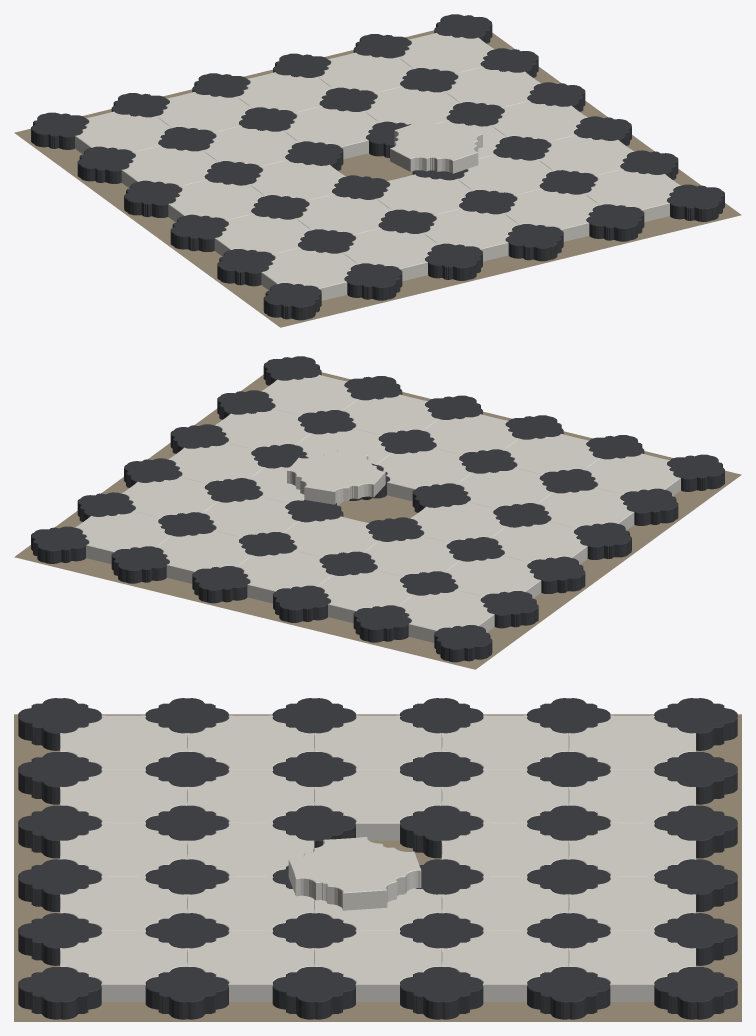
The model's file is terilgan.glb.
3 renders of one model, top to bottom at view 1: azimuth 30°, elevation 25°; view 2: azimuth 150°, elevation 25°; view 3: azimuth 270°, elevation 25°, orthographic. The views are drawn at different scales.
Visible parts, largest first — view 1: qum, t.033, t.007, t.040, t.029, t.035, t.018, t.051, t.009, t.013, t.011, t.015 (+49 smaller); view 2: qum, t.033, t.015, t.048, t.037, t.031, t.059, t.026, t.013, t.009, t.011, t.007 (+49 smaller); view 3: qum, t.033, t.051, t.059, t.053, t.057, t.055, t.022, t.007, t.015, t.009, t.013 (+49 smaller).
Boxes of the visible parts, bbox=[...] form: qum: bbox=[14, 30, 741, 327]; t.033: bbox=[390, 121, 482, 173]; t.007: bbox=[261, 248, 357, 300]; t.040: bbox=[503, 189, 599, 241]; t.029: bbox=[423, 208, 518, 261]; t.035: bbox=[283, 106, 379, 159]; t.018: bbox=[342, 228, 438, 281]; t.051: bbox=[584, 169, 680, 222]; t.009: bbox=[214, 213, 311, 256]; t.013: bbox=[121, 145, 217, 188]; t.011: bbox=[168, 179, 264, 222]; t.015: bbox=[75, 111, 171, 154]; qum: bbox=[14, 372, 741, 669]; t.033: bbox=[287, 450, 385, 504]; t.015: bbox=[398, 590, 494, 642]; t.048: bbox=[156, 531, 251, 583]; t.037: bbox=[237, 550, 332, 603]; t.031: bbox=[376, 448, 472, 501]; t.059: bbox=[75, 511, 171, 564]; t.026: bbox=[317, 570, 413, 623]; t.013: bbox=[444, 555, 541, 598]; t.009: bbox=[538, 487, 634, 530]; t.011: bbox=[491, 521, 587, 564]; t.007: bbox=[584, 453, 680, 496]; qum: bbox=[14, 714, 741, 1021]; t.033: bbox=[288, 837, 421, 910]; t.051: bbox=[60, 930, 187, 1001]; t.059: bbox=[568, 930, 695, 1001]; t.053: bbox=[187, 930, 314, 1001]; t.057: bbox=[441, 930, 568, 1001]; t.055: bbox=[314, 930, 441, 1001]; t.022: bbox=[314, 769, 441, 840]; t.007: bbox=[60, 715, 187, 769]; t.015: bbox=[568, 715, 695, 769]; t.009: bbox=[187, 715, 314, 769]; t.013: bbox=[441, 715, 568, 769].
Bounding box in the file's own units: 1.66 × 0.092 × 1.66.
